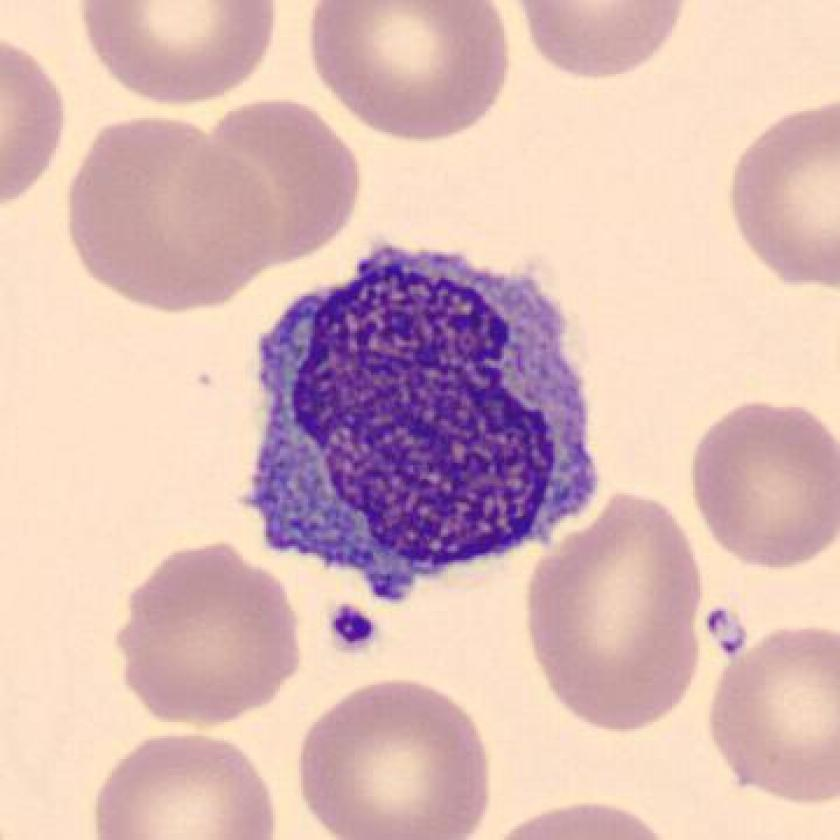monocyte: (223, 212, 624, 621)
